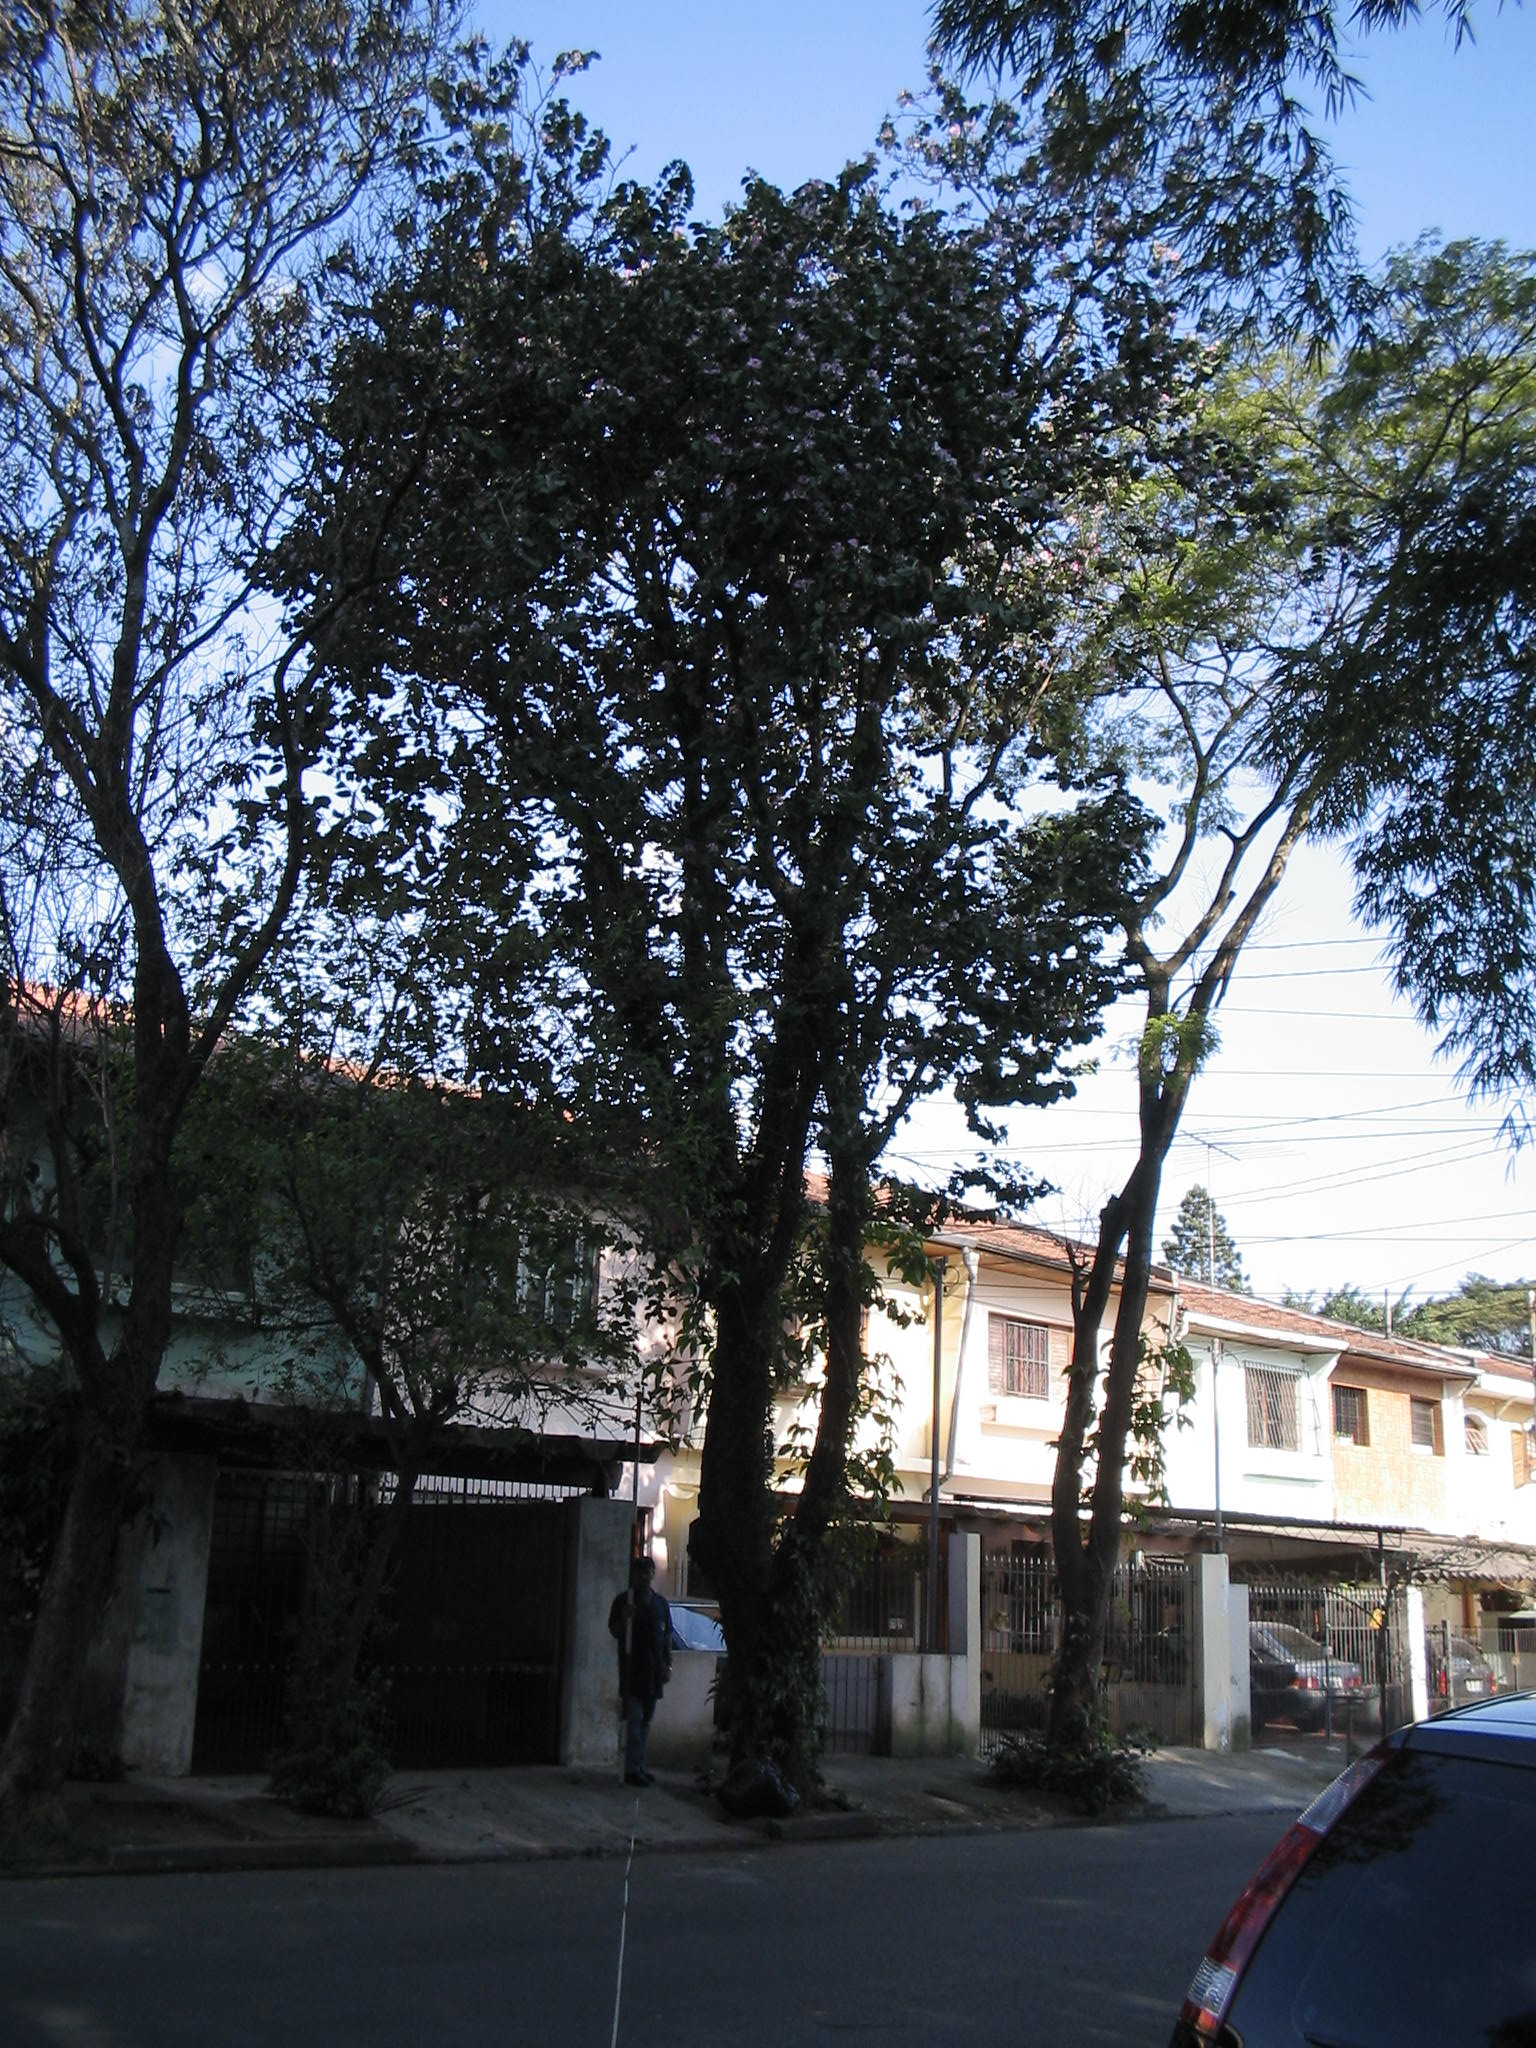crown: (302, 174, 1171, 1295), (18, 13, 578, 1221)
stem: (18, 1408, 216, 1782), (679, 1590, 879, 1816), (1041, 1550, 1199, 1766)
stick: (586, 1397, 666, 1793)
tree: (286, 168, 1183, 1817), (6, 3, 582, 1790), (1037, 376, 1525, 1767)
